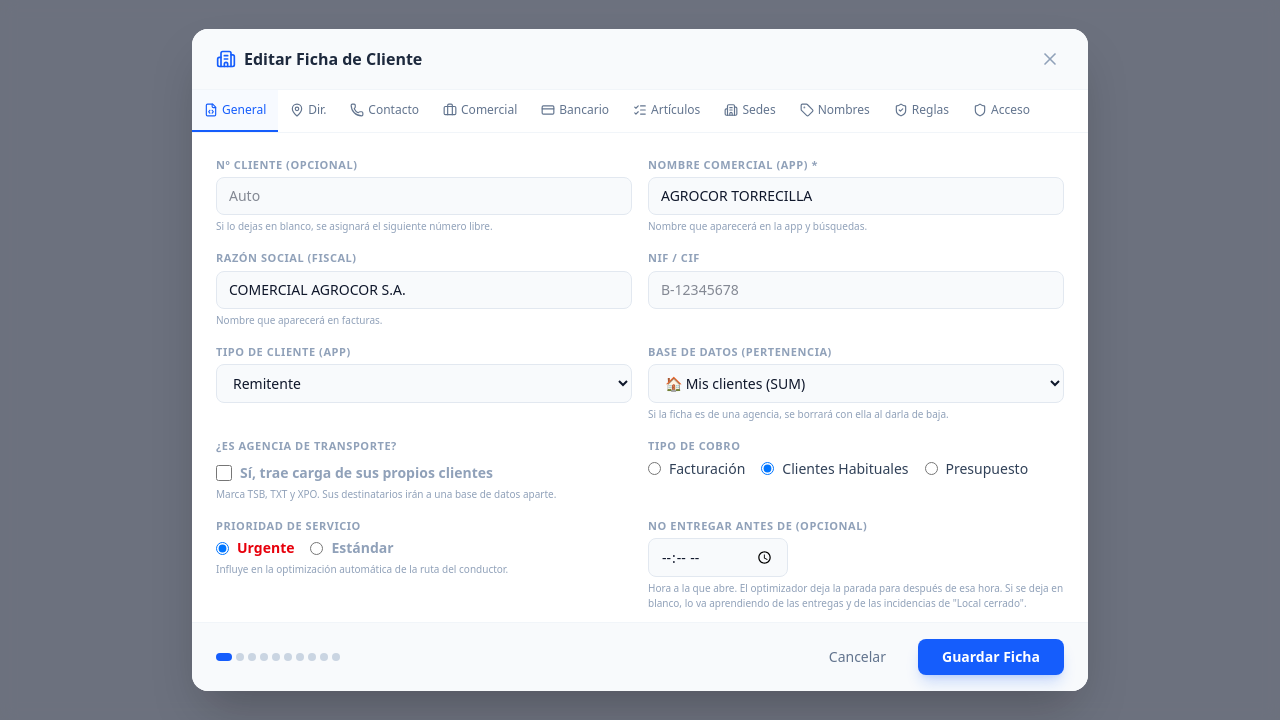
Scenario: CreateClientModal — otros nombres › Intro en la casilla añade el nombre, no guarda la ficha
Step 1. Click the button "Nombres" → (835, 111), box [788,90,882,132]
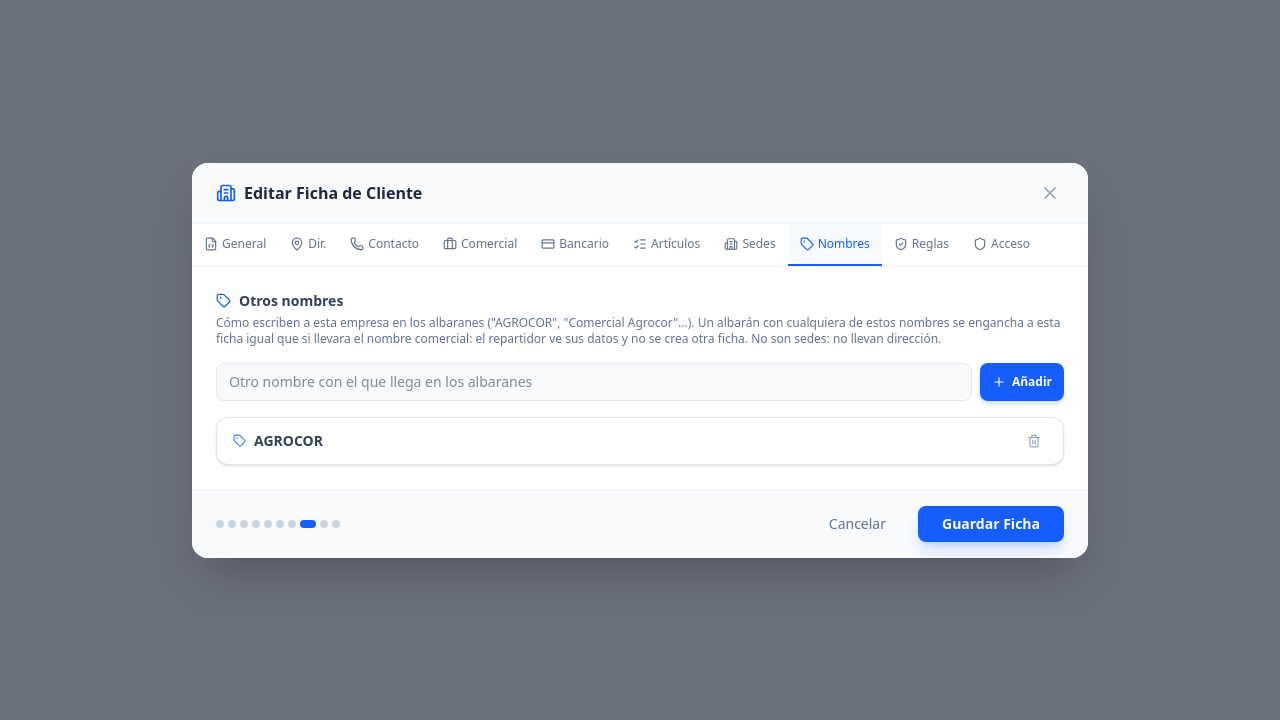
Step 2. Type "Agrocor Sur" into the field labelled "Otro nombre" → (594, 382), box [216,362,972,400]
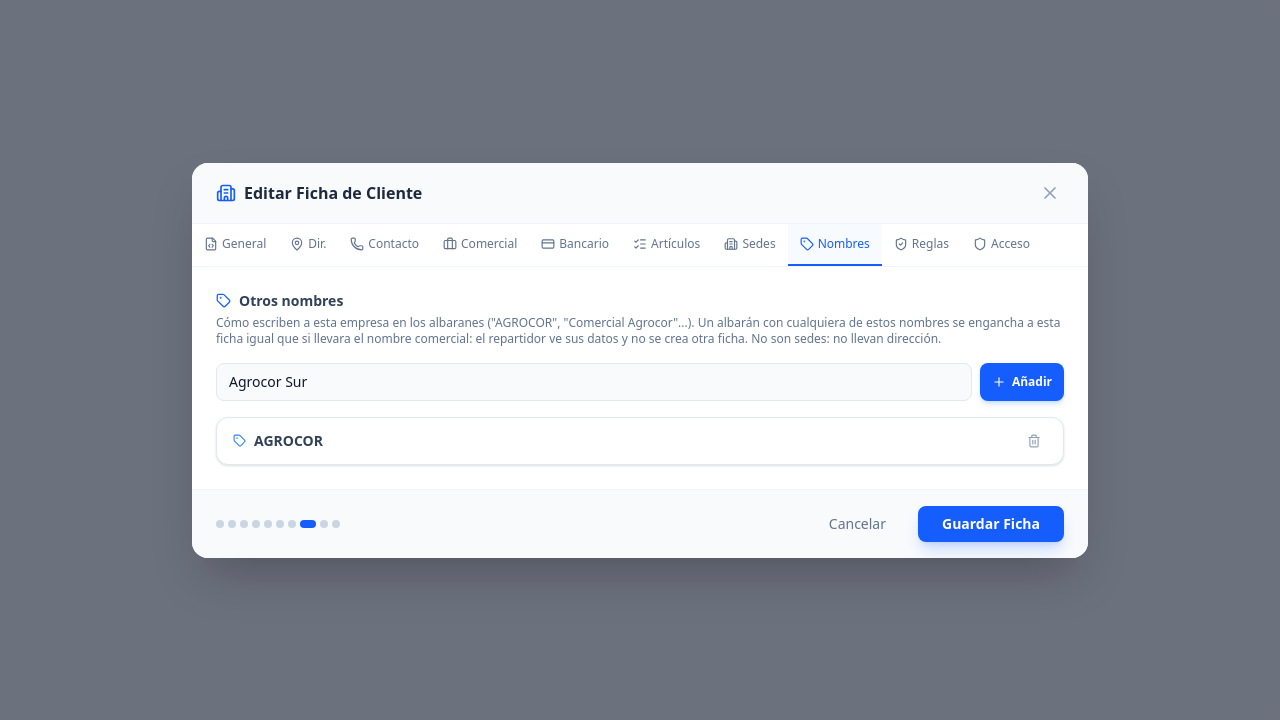
Step 3. Press Enter in the field named "Otro nombre", box [216,362,972,400]
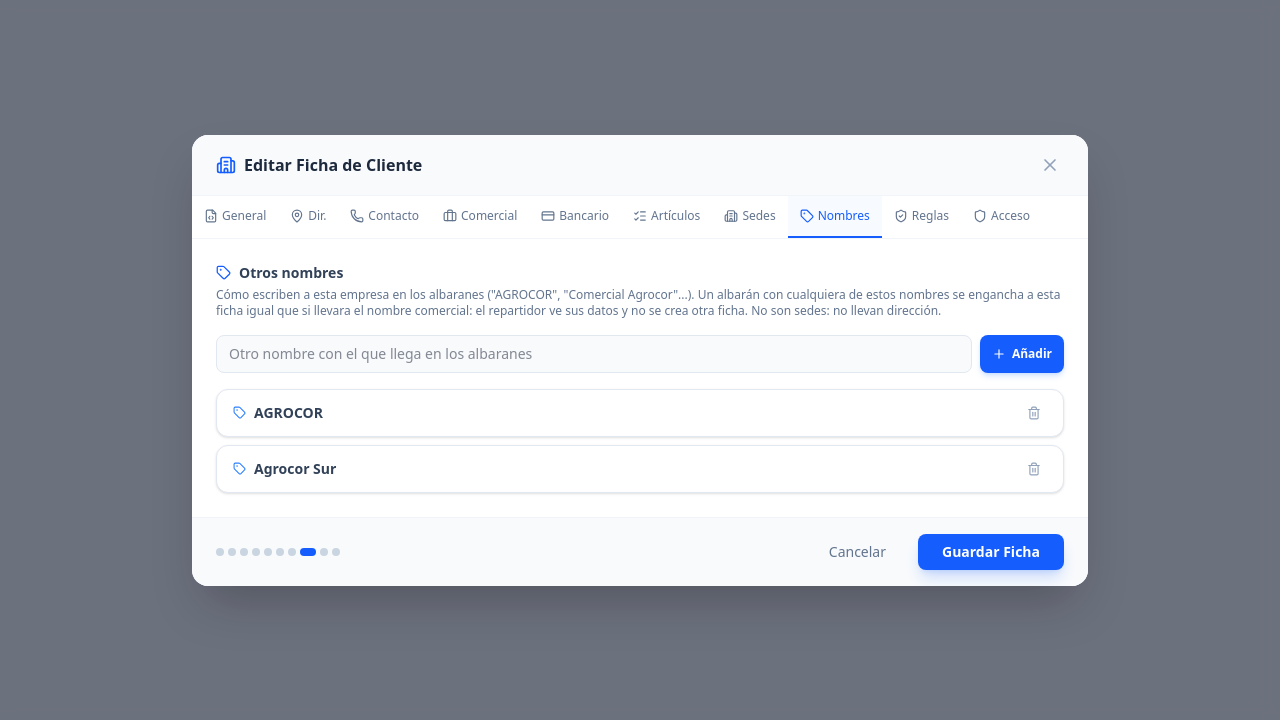
Result: the text "Agrocor Sur" is shown at [254,458,336,478]
Result: the field labelled "Otro nombre" is empty at [216,334,972,372]
